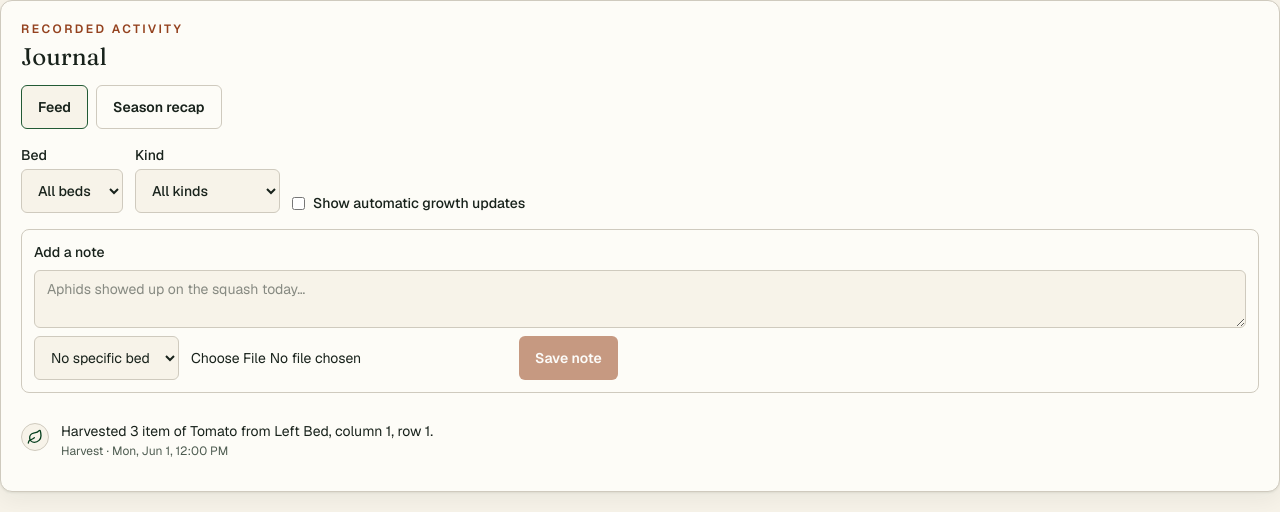
Test case: JournalPanel › switches to the Season recap sub-view without unmounting the outer panel
The width and height of the screenshot is (1280, 512).
Click the tab "Season recap".
click(159, 107)  # box [96,85,222,129]
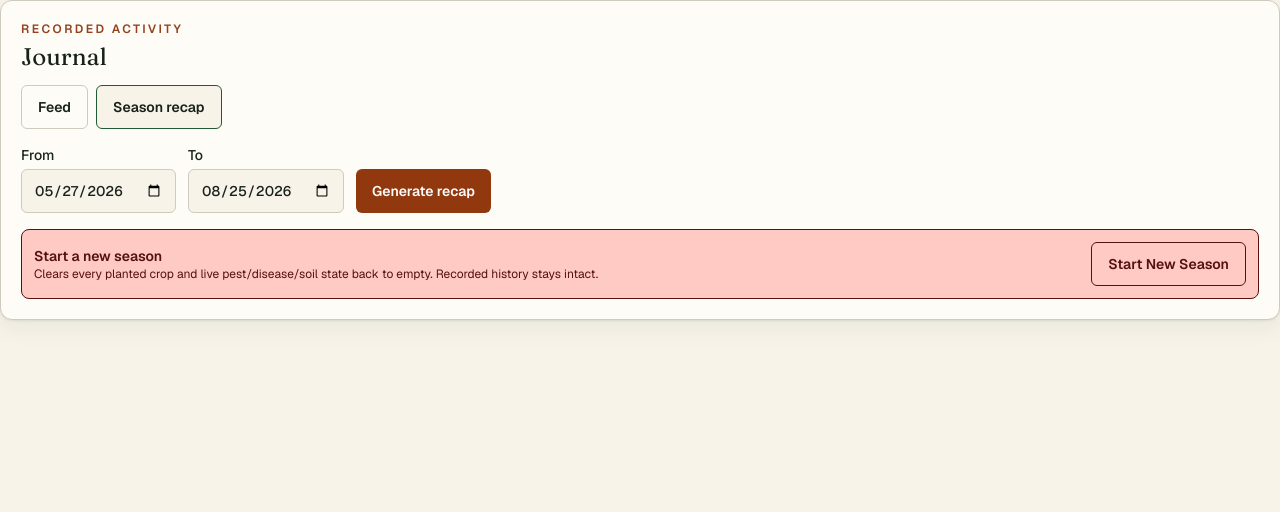
Check: the button "Generate recap" is shown, box [356,169,491,213]
